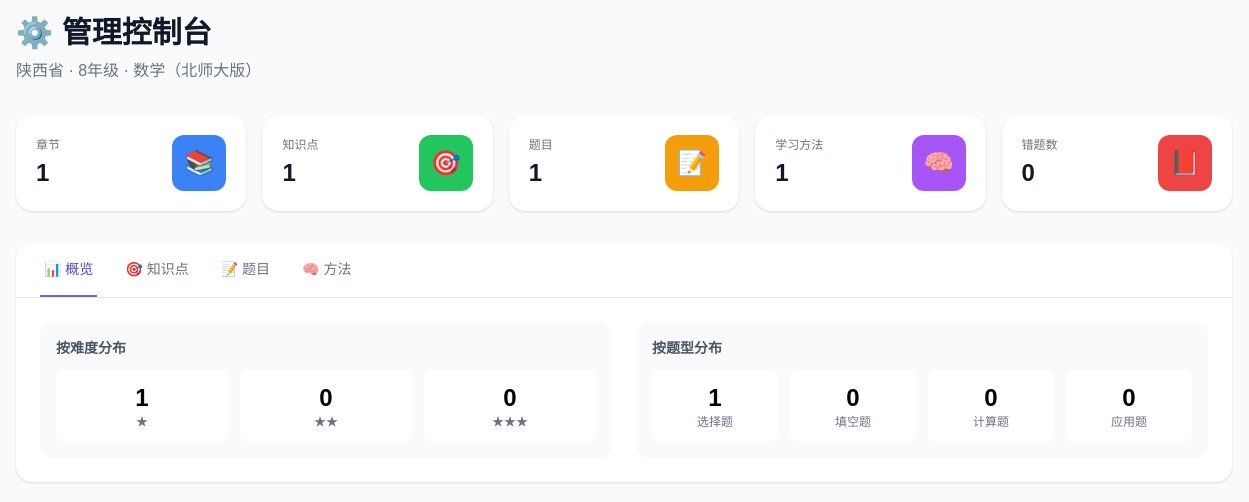
Test: AdminHome 页面测试 › 3. 可以切换 Tab 查看知识点
expect the heading "⚙️ 管理控制台" is shown: met, box x1=16 y1=16 x2=212 y2=49
Click the button "🎯 知识点".
click(157, 270)  # box x1=121 y1=243 x2=193 y2=297
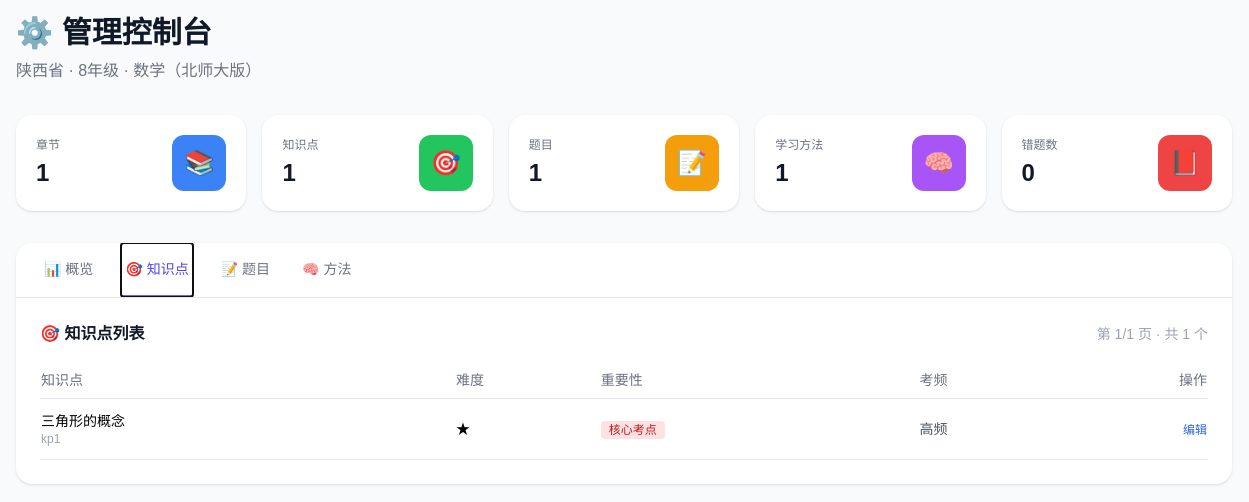
expect the text "三角形的概念" is shown: met, box x1=41 y1=413 x2=125 y2=429
